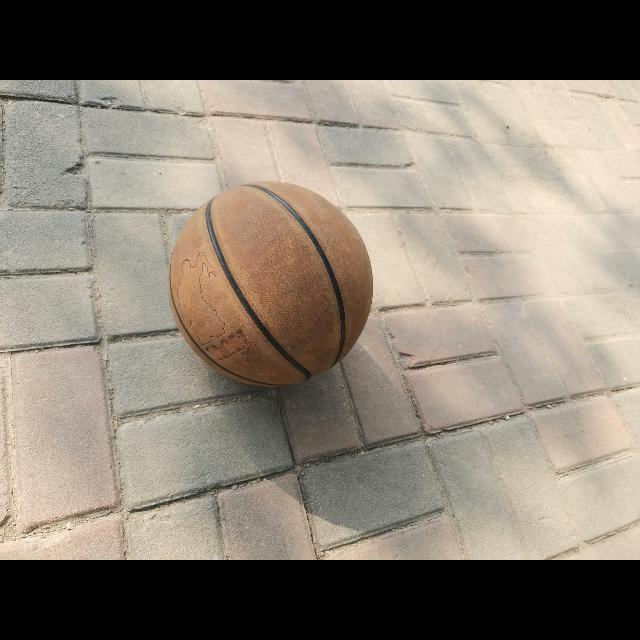basketball: (170, 180, 372, 388)
